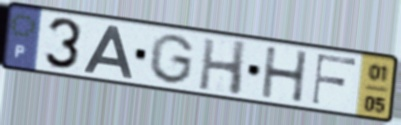3: (42, 16, 87, 72)
A: (81, 23, 135, 81)
F: (309, 52, 359, 107)
G: (146, 32, 196, 86)
H: (196, 36, 250, 98), (260, 45, 310, 104)
